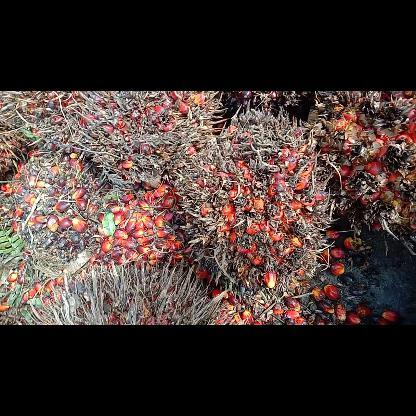Terlalu masak: (172, 108, 340, 306), (307, 90, 415, 260), (49, 91, 231, 191)
